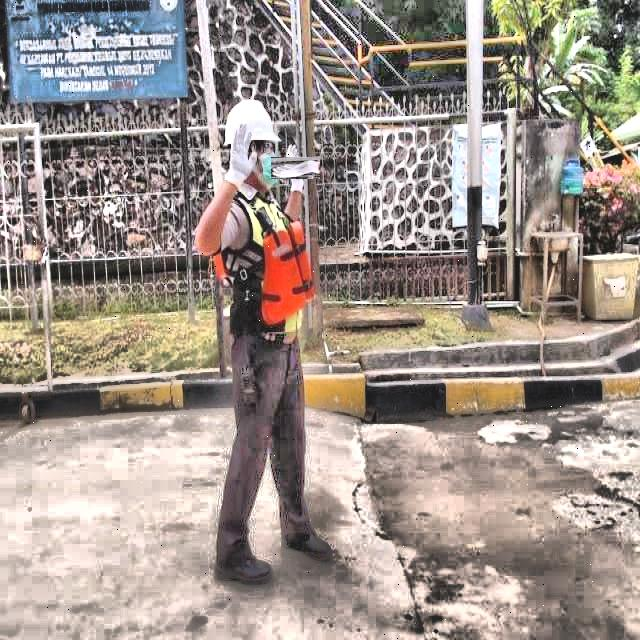gloved: (228, 125, 258, 188), (278, 150, 314, 186)
